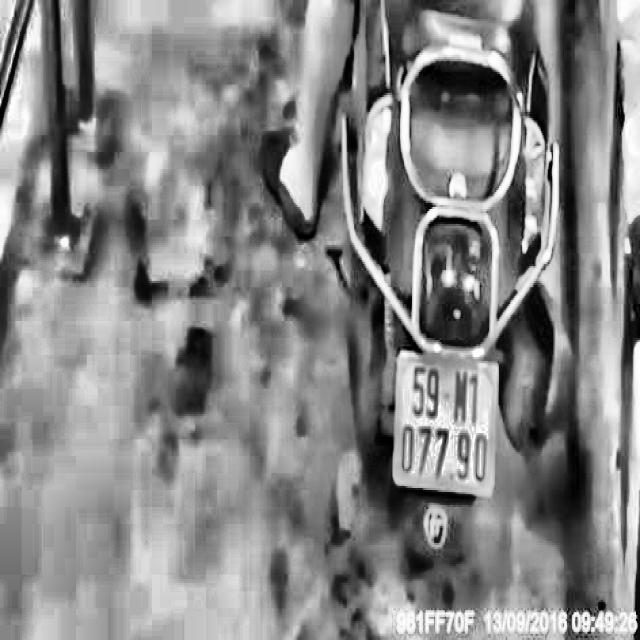plate: (389, 347, 505, 499)
